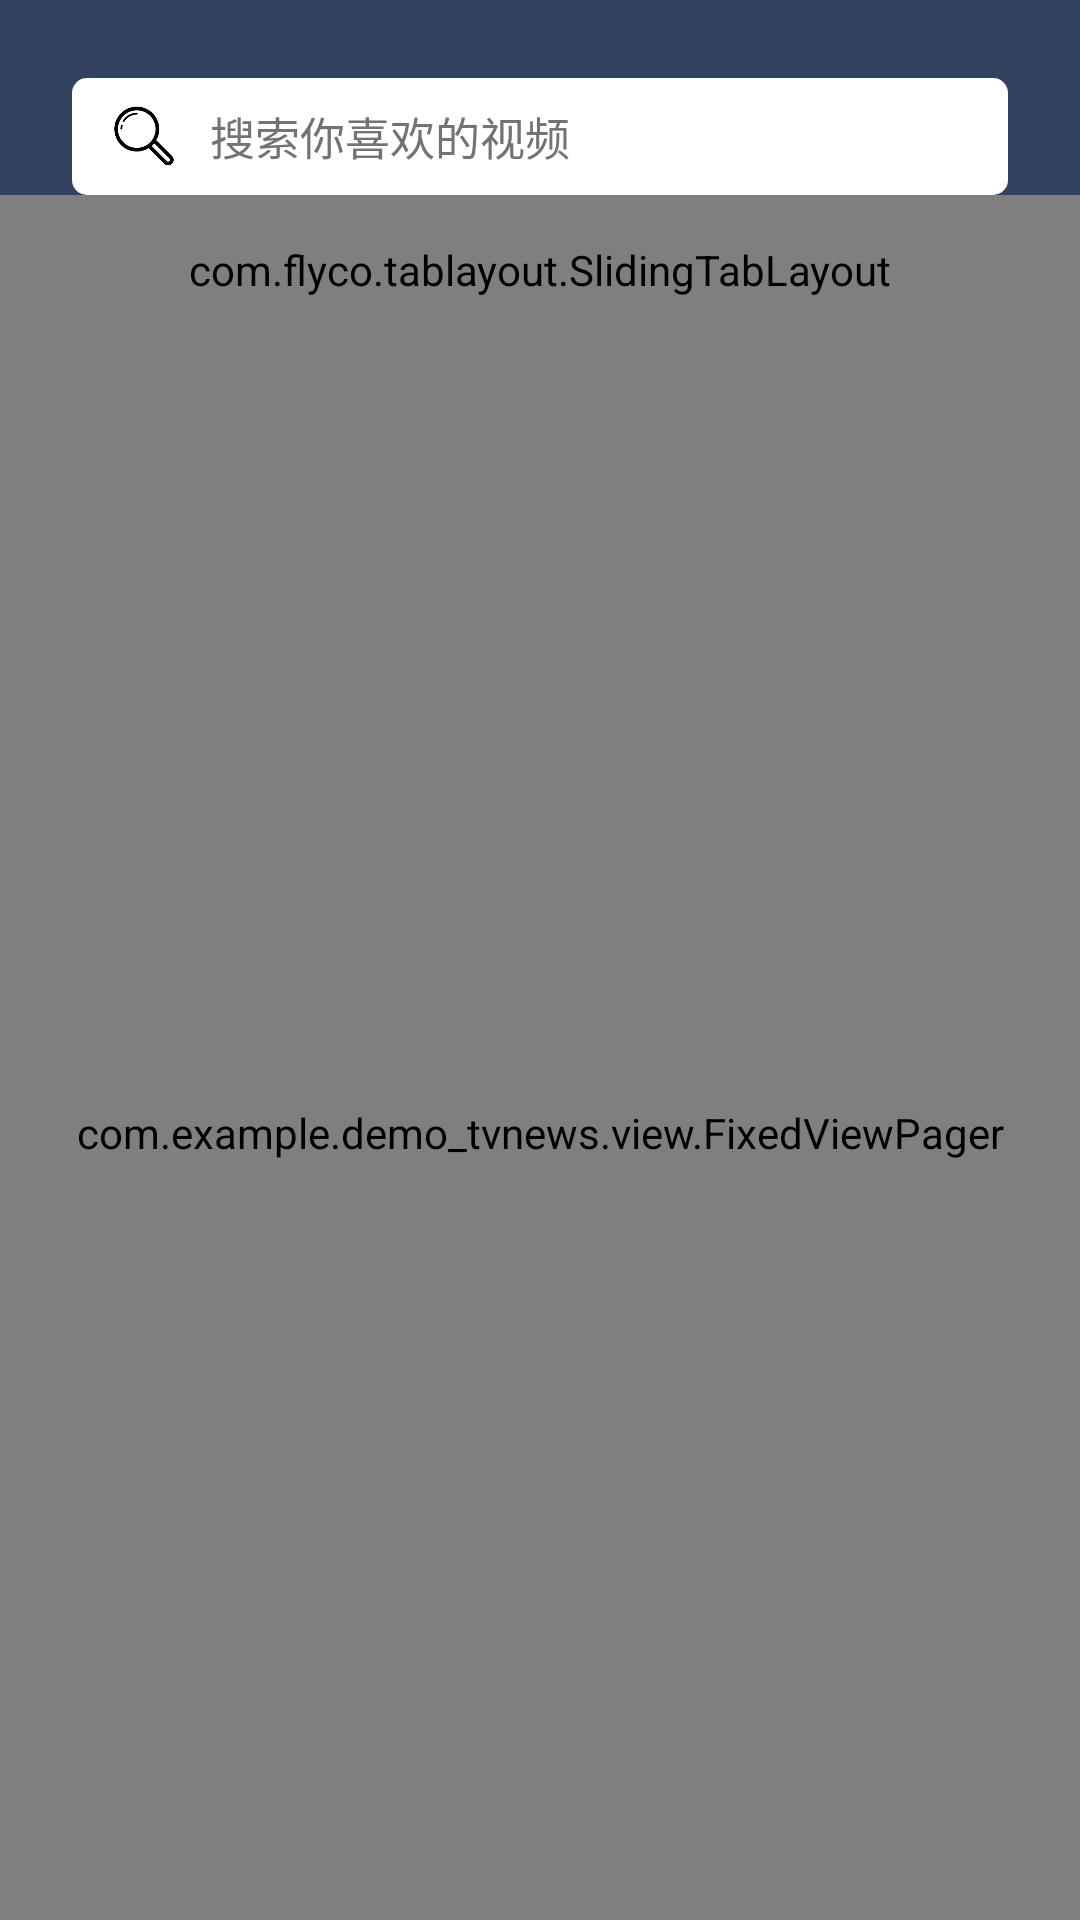

Icon click points for this 1080px×1920px phone screenshot, format [x,y]:
search: [144,135]
